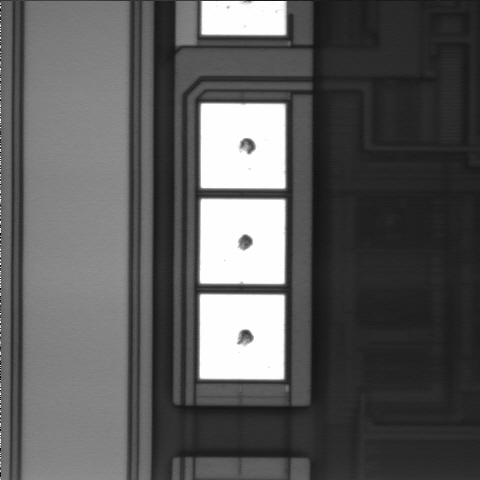pad: (200, 199, 285, 284), (201, 104, 285, 189), (200, 294, 284, 379)
